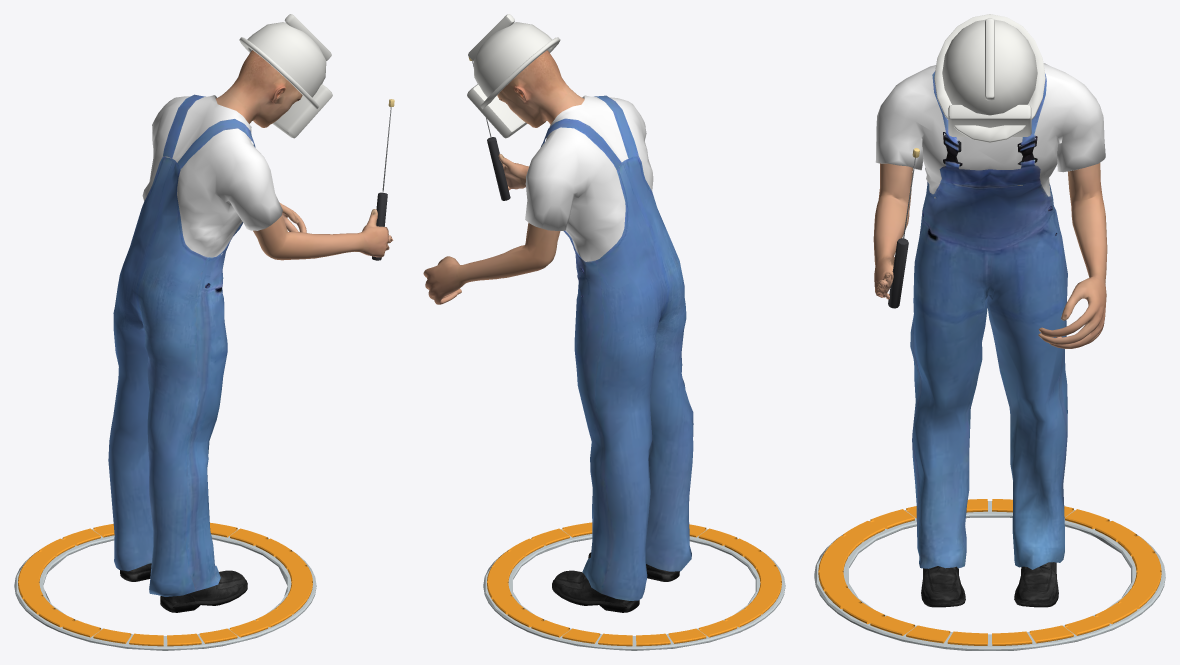
The model's file is MDO-INS-003_lod1.glb.
3 views of the same model, side by side, from view 1: azimuth 30°, elevation 25°; view 2: azimuth 150°, elevation 25°; view 3: azimuth 270°, elevation 25° (orthographic). The views are drawn at different scales.
Visible parts, largest first — view 1: MDO-INS-003_pessoa_male_worksuit01, MDO-INS-003_pessoa, MDO-INS-003_anel_fundo, MDO-INS-003_capacete, MDO-INS-003_pessoa_shoes04, MDO-INS-003_capacete_mascara, MDO-INS-003_capacete_aba; view 2: MDO-INS-003_pessoa_male_worksuit01, MDO-INS-003_pessoa, MDO-INS-003_anel_fundo, MDO-INS-003_capacete, MDO-INS-003_pessoa_shoes04, MDO-INS-003_capacete_mascara, MDO-INS-003_ferD_porta, MDO-INS-003_capacete_aba; view 3: MDO-INS-003_pessoa_male_worksuit01, MDO-INS-003_pessoa, MDO-INS-003_capacete, MDO-INS-003_anel_fundo, MDO-INS-003_pessoa_shoes04, MDO-INS-003_capacete_aba, MDO-INS-003_capacete_mascara, MDO-INS-003_ferD_porta, MDO-INS-003_capacete_friso, MDO-INS-003_anel_h04, MDO-INS-003_anel_h07, MDO-INS-003_anel_h03 (+7 smaller).
Boxes of the visible parts, x1,y1,x2,y2 form: MDO-INS-003_pessoa_male_worksuit01: (108, 94, 282, 596); MDO-INS-003_pessoa: (216, 50, 393, 260); MDO-INS-003_anel_fundo: (14, 529, 316, 650); MDO-INS-003_capacete: (247, 22, 326, 97); MDO-INS-003_pessoa_shoes04: (120, 563, 247, 612); MDO-INS-003_capacete_mascara: (272, 84, 332, 138); MDO-INS-003_capacete_aba: (239, 37, 319, 108); MDO-INS-003_pessoa_male_worksuit01: (525, 95, 693, 600); MDO-INS-003_pessoa: (423, 50, 584, 304); MDO-INS-003_anel_fundo: (483, 529, 785, 650); MDO-INS-003_capacete: (473, 22, 552, 97); MDO-INS-003_pessoa_shoes04: (552, 552, 679, 612); MDO-INS-003_capacete_mascara: (467, 84, 527, 138); MDO-INS-003_ferD_porta: (487, 137, 510, 200); MDO-INS-003_capacete_aba: (480, 37, 560, 109); MDO-INS-003_pessoa_male_worksuit01: (875, 63, 1105, 569); MDO-INS-003_pessoa: (873, 163, 1107, 348); MDO-INS-003_capacete: (942, 19, 1037, 115); MDO-INS-003_anel_fundo: (814, 501, 1165, 650); MDO-INS-003_pessoa_shoes04: (921, 562, 1058, 607); MDO-INS-003_capacete_aba: (934, 14, 1045, 142); MDO-INS-003_capacete_mascara: (948, 104, 1031, 136); MDO-INS-003_ferD_porta: (888, 238, 908, 308); MDO-INS-003_capacete_friso: (985, 18, 994, 100); MDO-INS-003_anel_h04: (1029, 625, 1073, 643); MDO-INS-003_anel_h07: (906, 625, 950, 643); MDO-INS-003_anel_h03: (1065, 616, 1109, 635).
Bounding box in the file's own units: 1.05 × 1.67 × 0.84.
11 materials, 5 textured.
